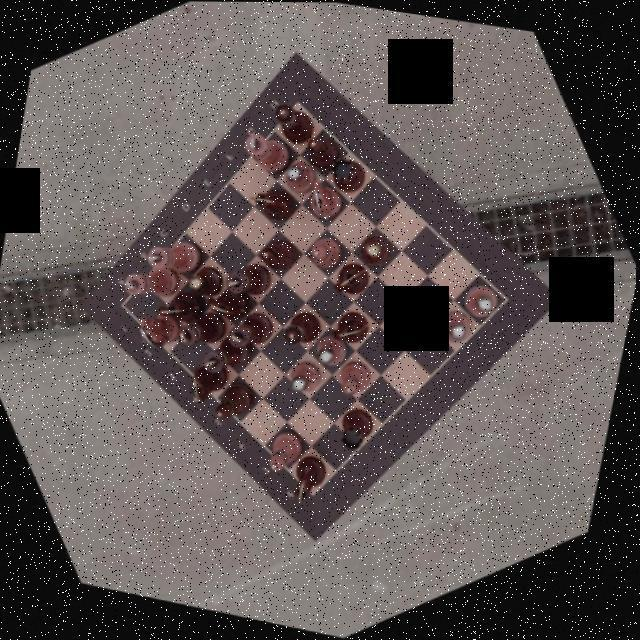chess-table-corners: (488, 278, 530, 318), (282, 91, 316, 126), (111, 296, 142, 328), (302, 481, 334, 512)
